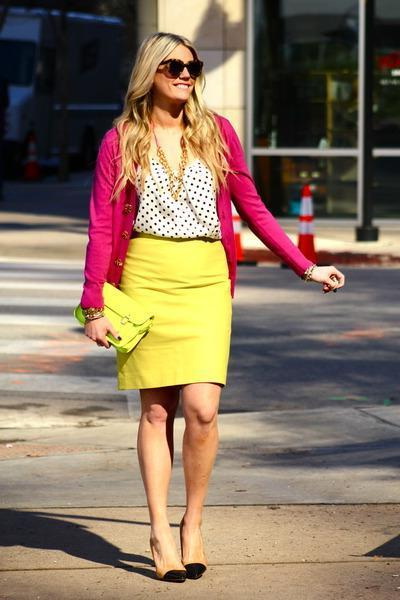short sleeve shirt: (132, 140, 222, 243)
skirt: (111, 238, 233, 395)
sweater: (79, 111, 318, 317)
